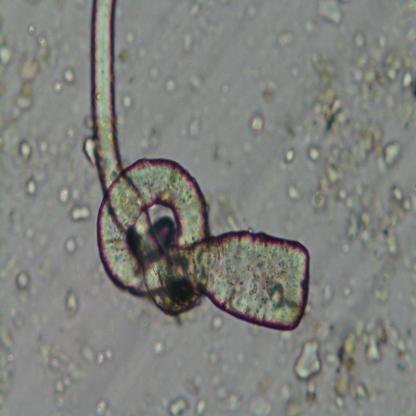Background material: (304, 33, 414, 260), (9, 34, 53, 122), (332, 325, 367, 408), (42, 342, 85, 404), (205, 342, 243, 412), (0, 310, 24, 409), (207, 180, 243, 233), (358, 313, 388, 362), (34, 128, 78, 161), (187, 3, 220, 43), (387, 323, 416, 368), (137, 41, 163, 90), (298, 334, 323, 382), (368, 263, 394, 306), (275, 379, 305, 415), (249, 377, 274, 415), (313, 276, 336, 308), (141, 126, 162, 160), (84, 343, 115, 366), (152, 330, 176, 359), (318, 0, 342, 28), (61, 232, 88, 256), (247, 106, 266, 140), (52, 68, 75, 96), (63, 286, 80, 321), (274, 28, 298, 52), (13, 140, 33, 168), (185, 114, 204, 143), (15, 269, 31, 303), (184, 71, 204, 95), (58, 186, 82, 205), (168, 396, 192, 415), (237, 4, 262, 22), (70, 204, 93, 223), (83, 136, 96, 168), (178, 30, 196, 53), (282, 144, 297, 171), (23, 176, 39, 200), (186, 372, 202, 396), (216, 70, 233, 92), (286, 184, 304, 204), (209, 312, 226, 333), (0, 44, 16, 66), (264, 79, 279, 102), (121, 92, 136, 115), (93, 396, 110, 416), (306, 380, 318, 404), (164, 77, 177, 95), (125, 28, 137, 45), (196, 396, 206, 415), (119, 48, 131, 61), (27, 22, 37, 36)
Microfibre: (89, 0, 310, 331)
